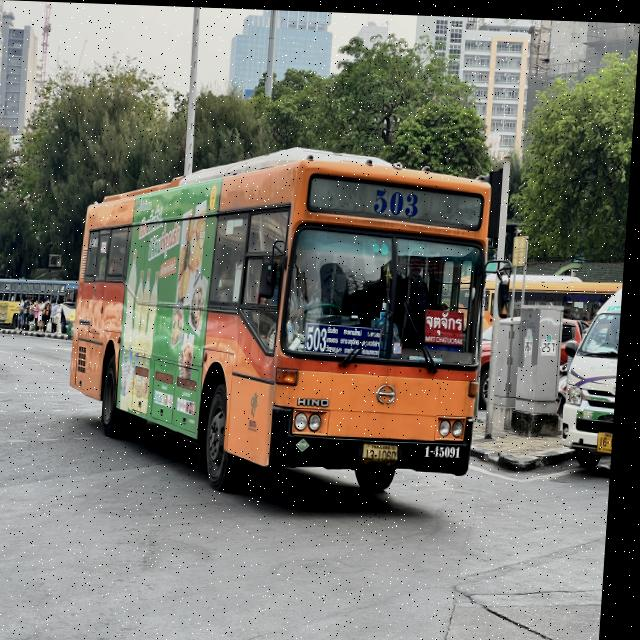BMTA-bus: (65, 128, 502, 513)
Bus-Line-Number: (369, 179, 430, 220)
Destination-Sign-Extra-Bus: (426, 305, 469, 344)
